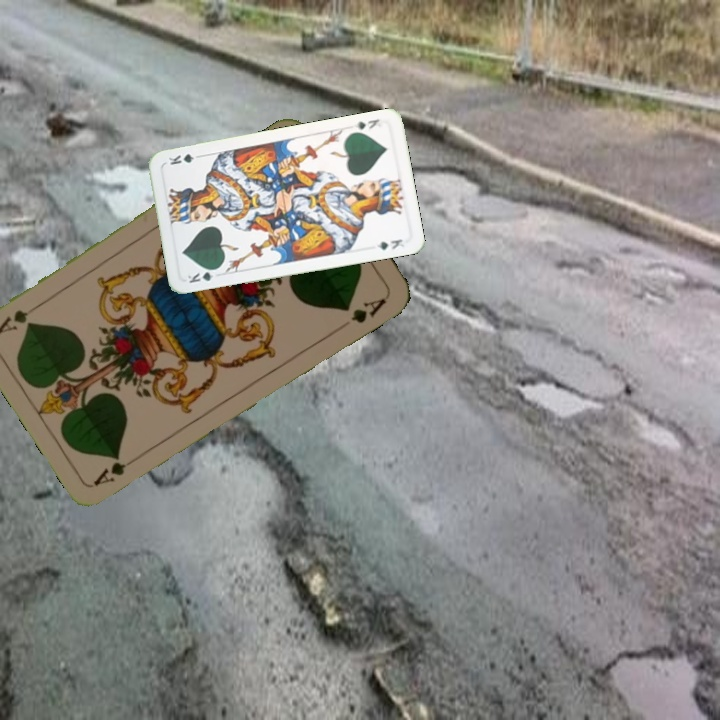GA: (90, 450, 144, 488)
GK: (183, 264, 222, 286), (350, 115, 382, 133)
